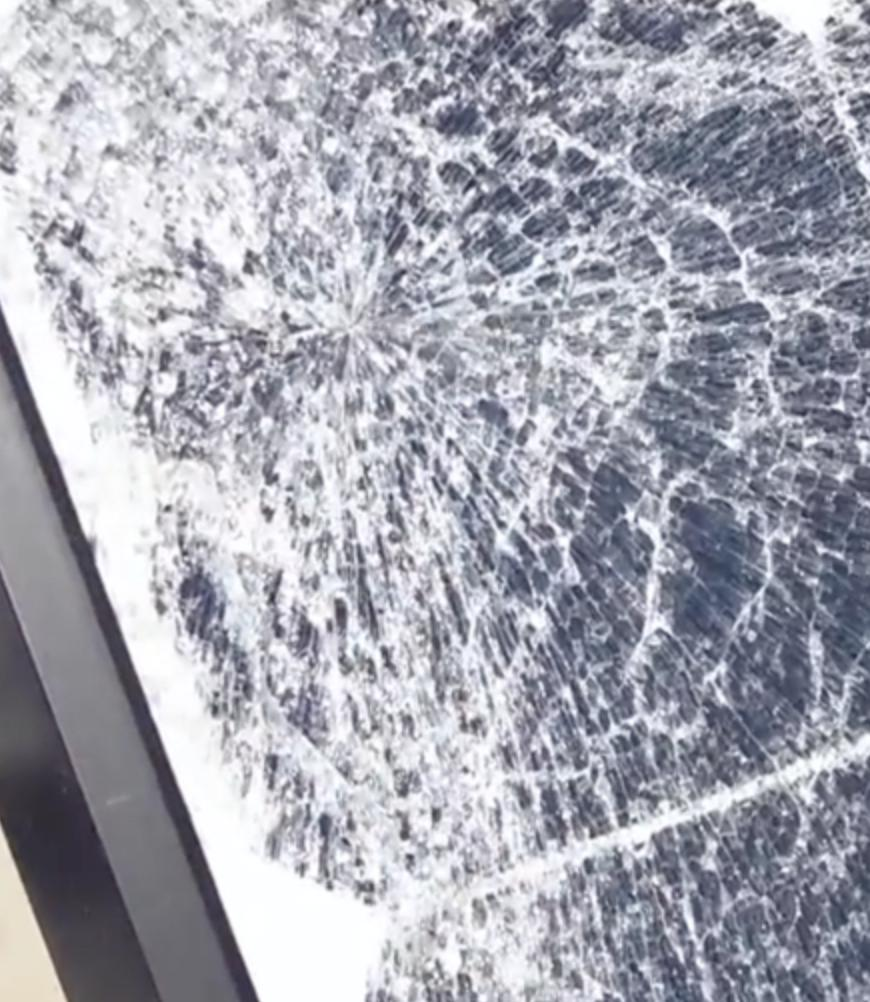Crack: (0, 0, 863, 1001)
